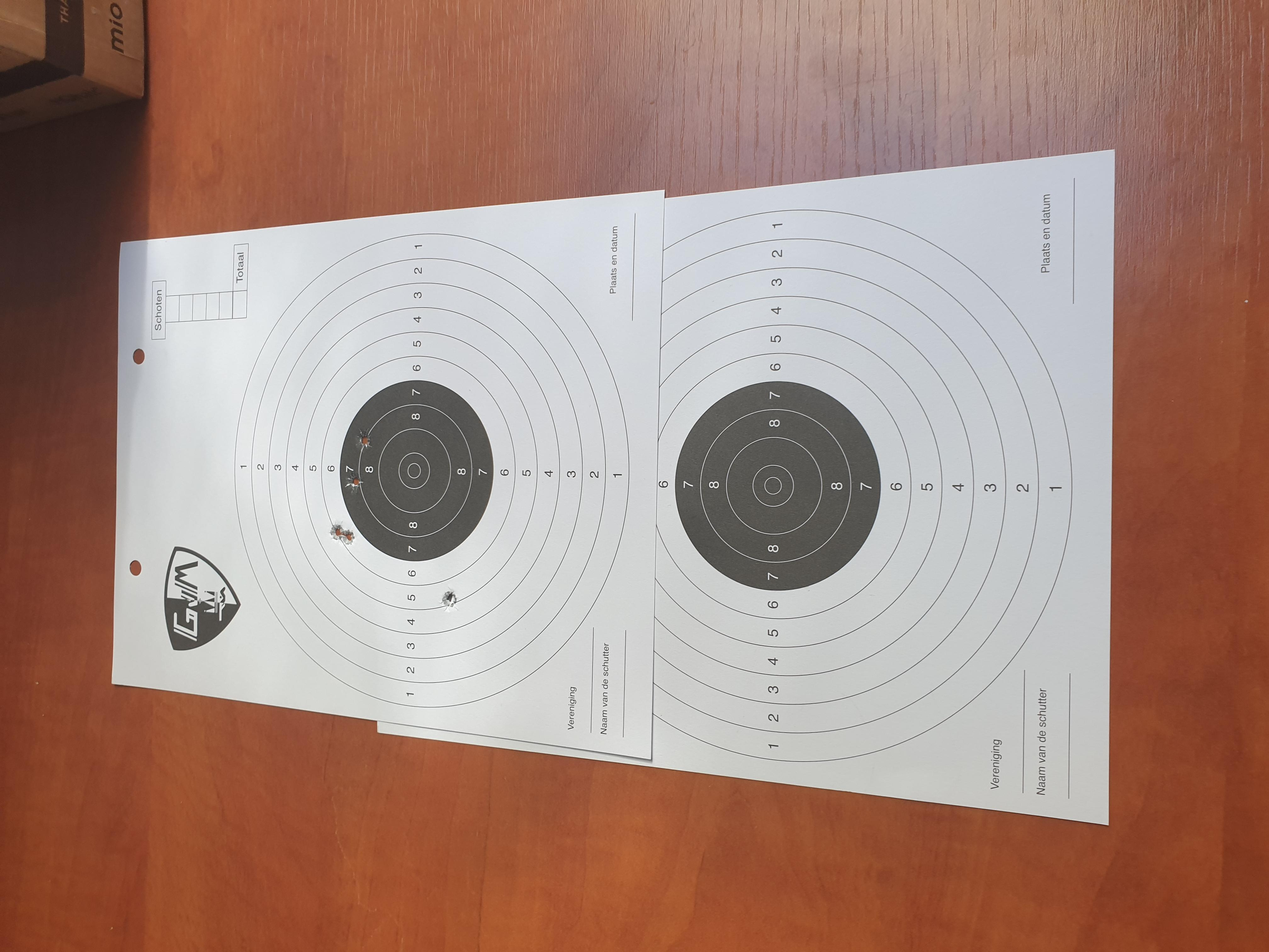hole: (905, 460, 924, 482), (809, 343, 829, 362), (896, 504, 912, 524), (926, 411, 940, 430), (913, 406, 926, 423)
